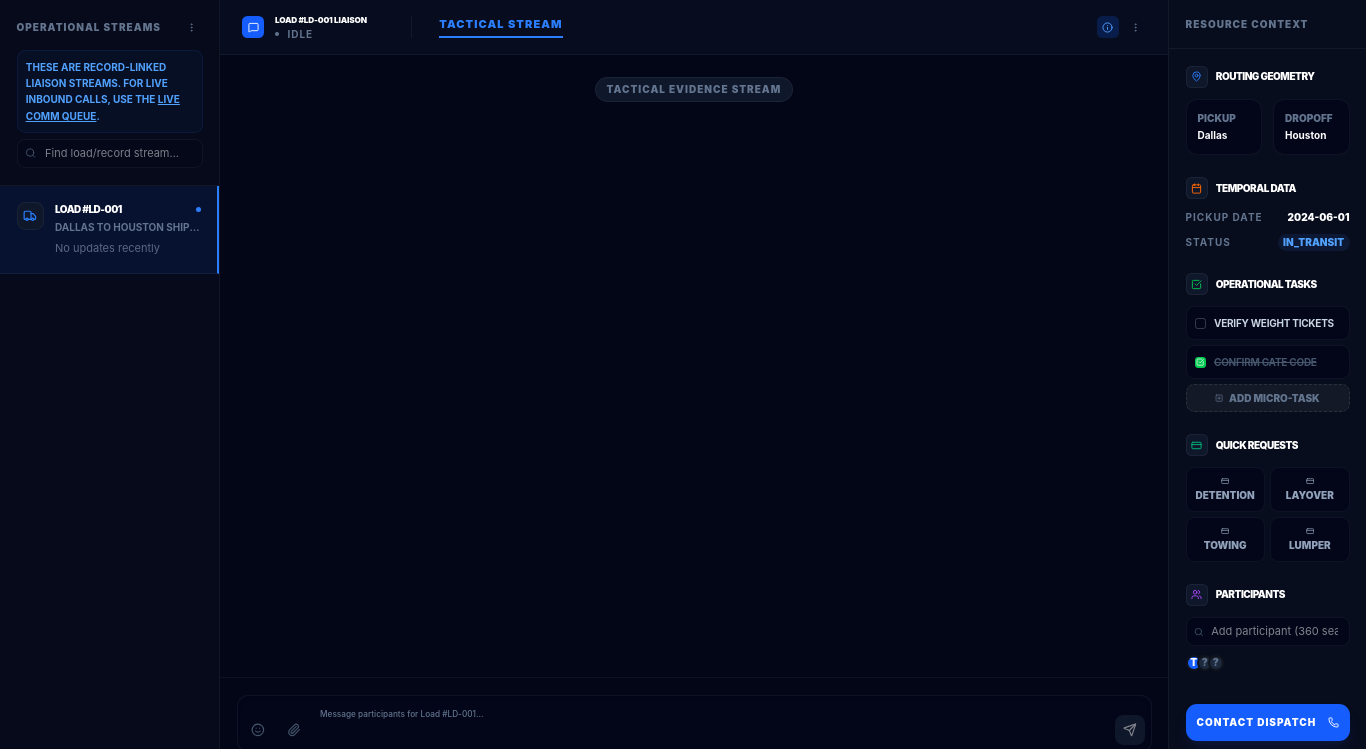
OperationalMessaging component › add micro-task flow (lines 769-776) › opens task input when Add Micro-Task is clicked
The width and height of the screenshot is (1366, 749).
Click the button "Add Micro-Task" at (1268, 398), box [1186, 384, 1350, 412]
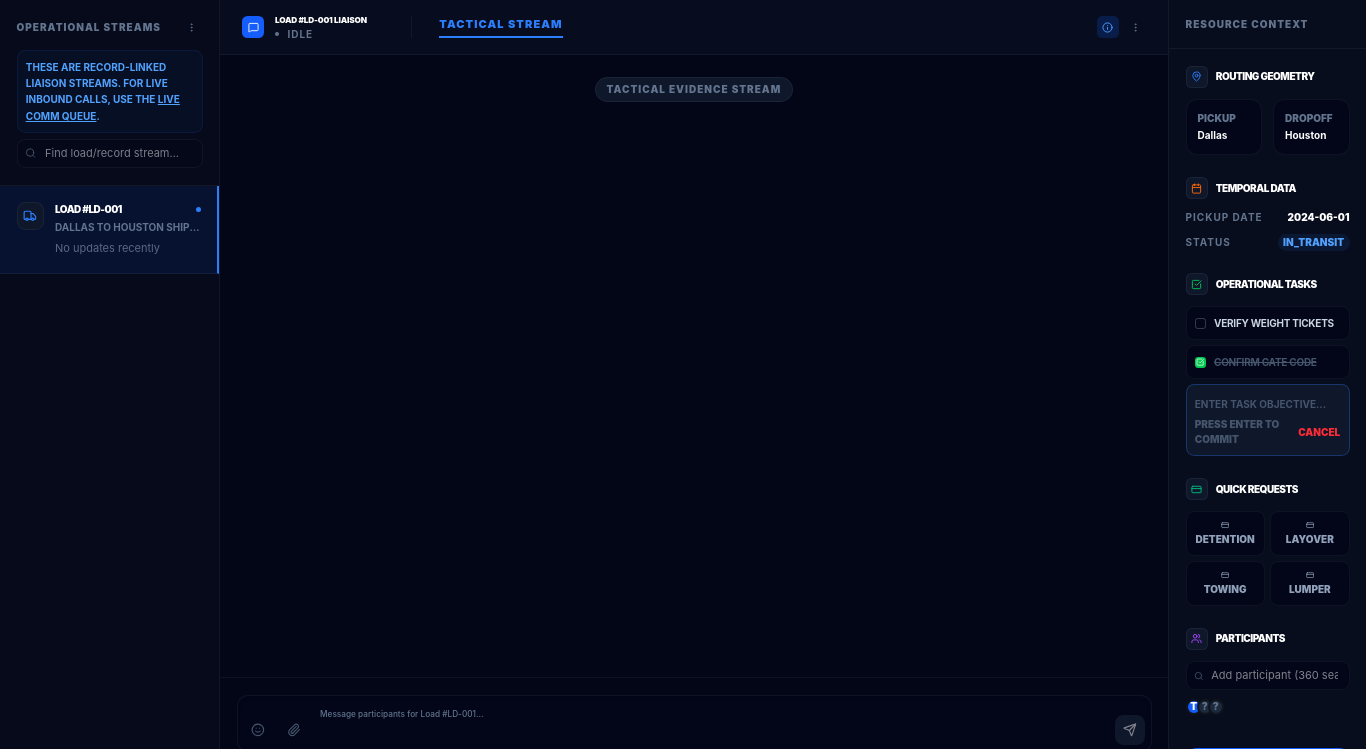
expect the field with placeholder "Enter task objective..." is shown: met, box [1195, 396, 1340, 412]
expect the text "Press Enter to Commit" is shown: met, box [1195, 418, 1279, 445]
